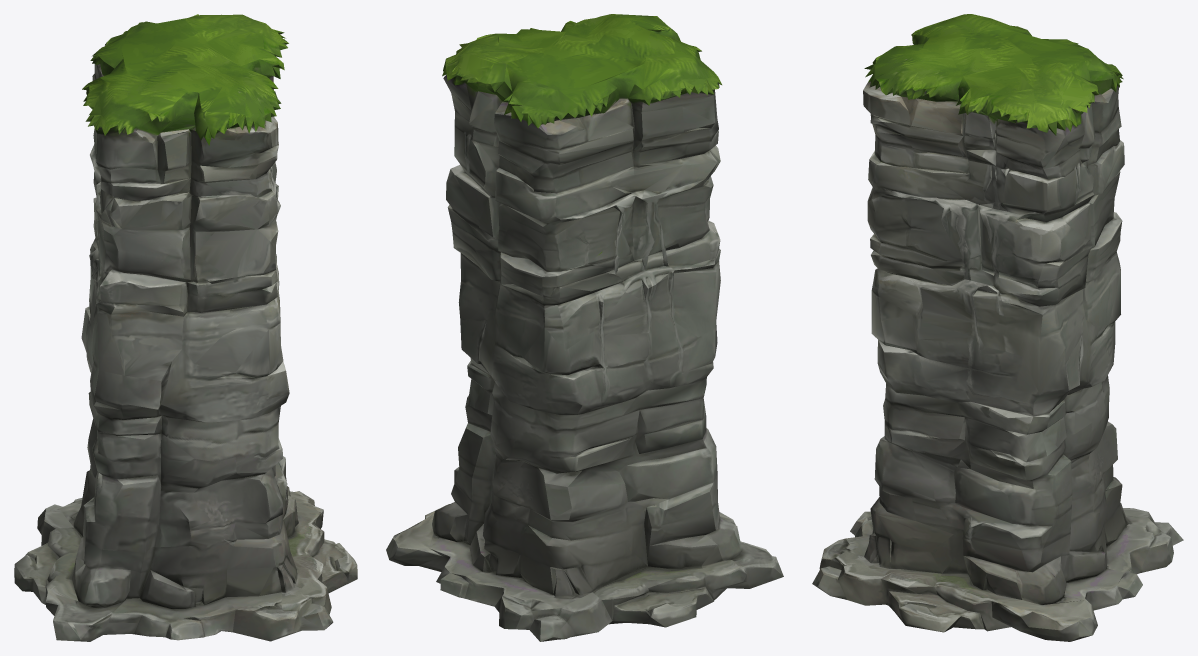
3 renders of one model, left to right at view 1: azimuth 30°, elevation 25°; view 2: azimuth 150°, elevation 25°; view 3: azimuth 270°, elevation 25°, orthographic.
Visible parts, largest first — view 1: sea_stack; view 2: sea_stack; view 3: sea_stack.
Boxes of the visible parts, x1=… form: sea_stack: x1=14, y1=14, x2=357, y2=641; sea_stack: x1=386, y1=14, x2=783, y2=641; sea_stack: x1=812, y1=14, x2=1183, y2=641.
Size of the model in its own units: 0.6328 by 0.9817 by 0.6343.
Materials: 1 (1 with a texture image).
